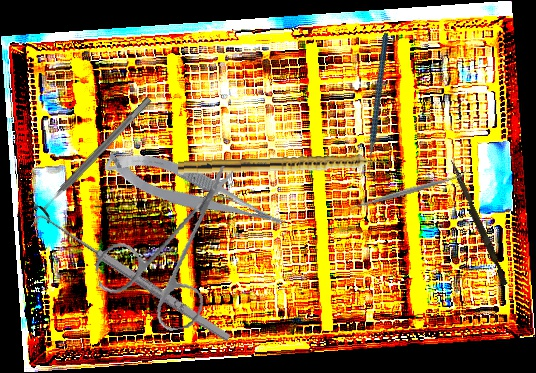Chopper: (323, 32, 437, 183)
Fixation Ring: (31, 90, 159, 225)
Handpiece: (177, 153, 391, 179)
Hook Surgical: (30, 208, 233, 351)
Iris Scissors: (81, 164, 261, 343)
Micro Scissor: (101, 133, 290, 253)
Pusher: (445, 158, 511, 287)
Spatula Surgical: (346, 167, 471, 215)
